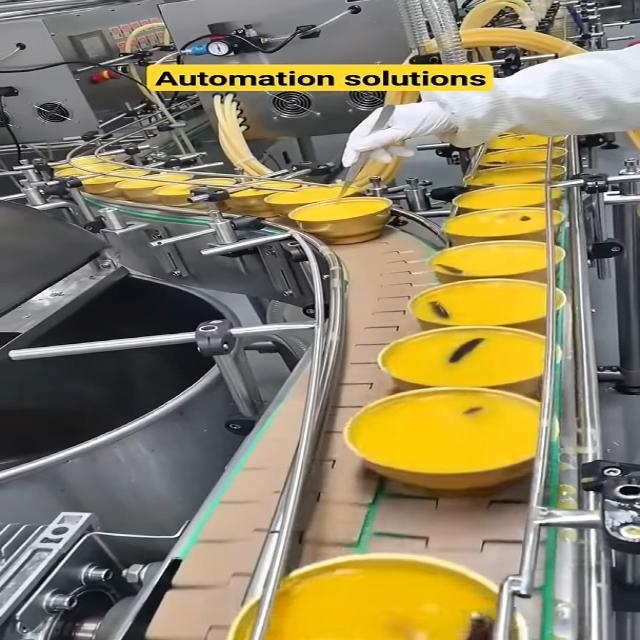cup: (190, 552, 568, 640), (324, 386, 606, 496), (349, 323, 592, 397), (404, 278, 574, 334), (276, 197, 416, 248), (433, 205, 578, 249), (429, 240, 567, 286), (256, 182, 376, 229), (441, 183, 576, 220), (212, 175, 310, 218), (104, 167, 211, 206), (456, 162, 576, 191), (150, 177, 254, 210), (462, 145, 581, 169), (76, 166, 156, 197)
